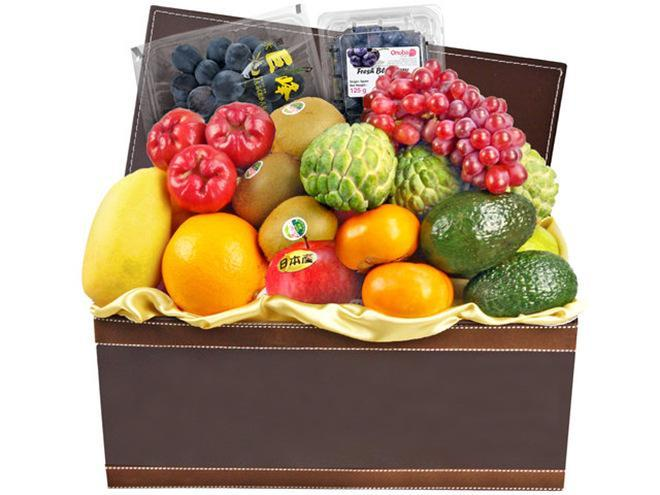apple: (264, 239, 363, 304)
